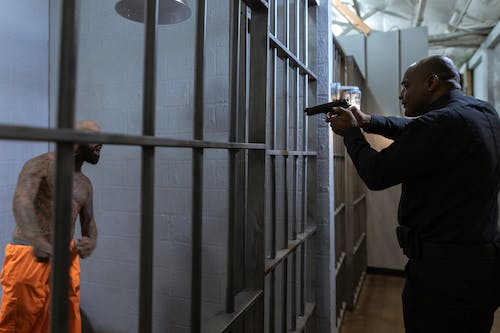gun: (302, 97, 353, 117)
